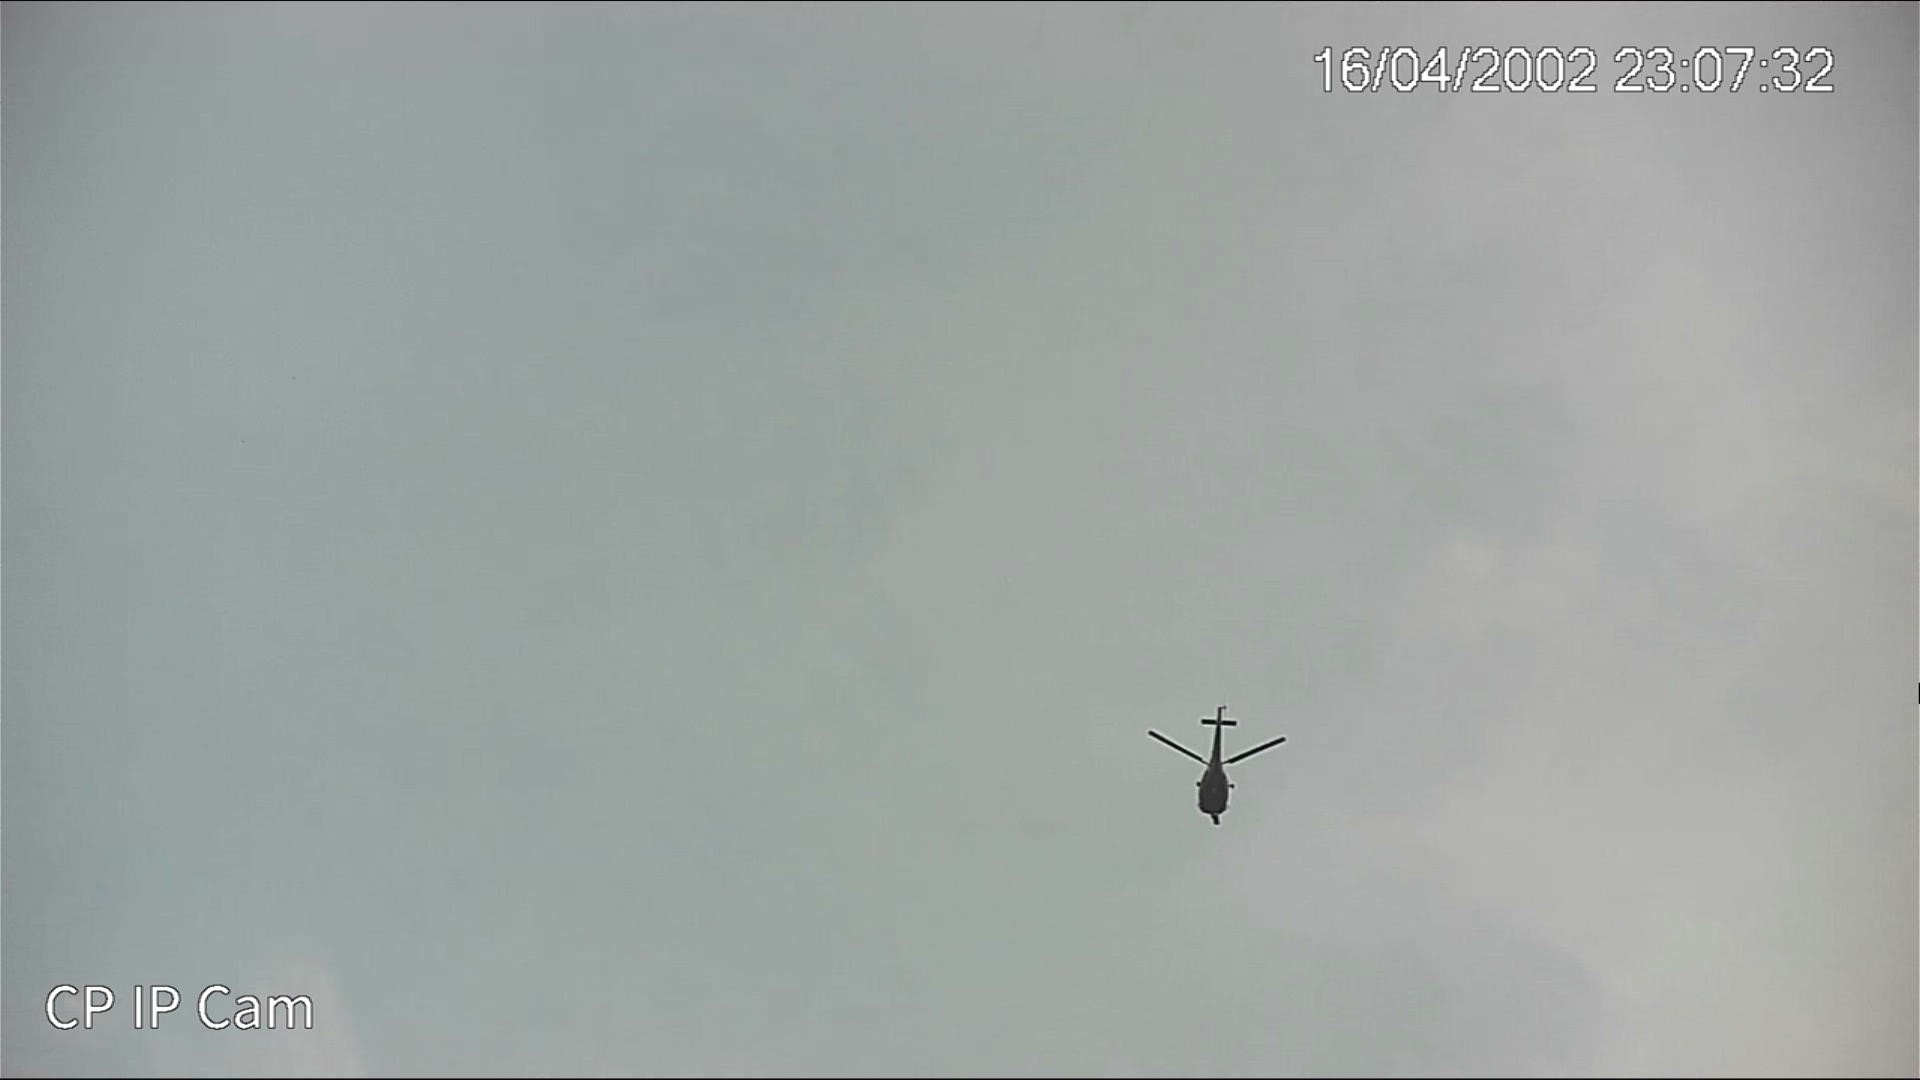SU_30: (1145, 702, 1284, 820)
